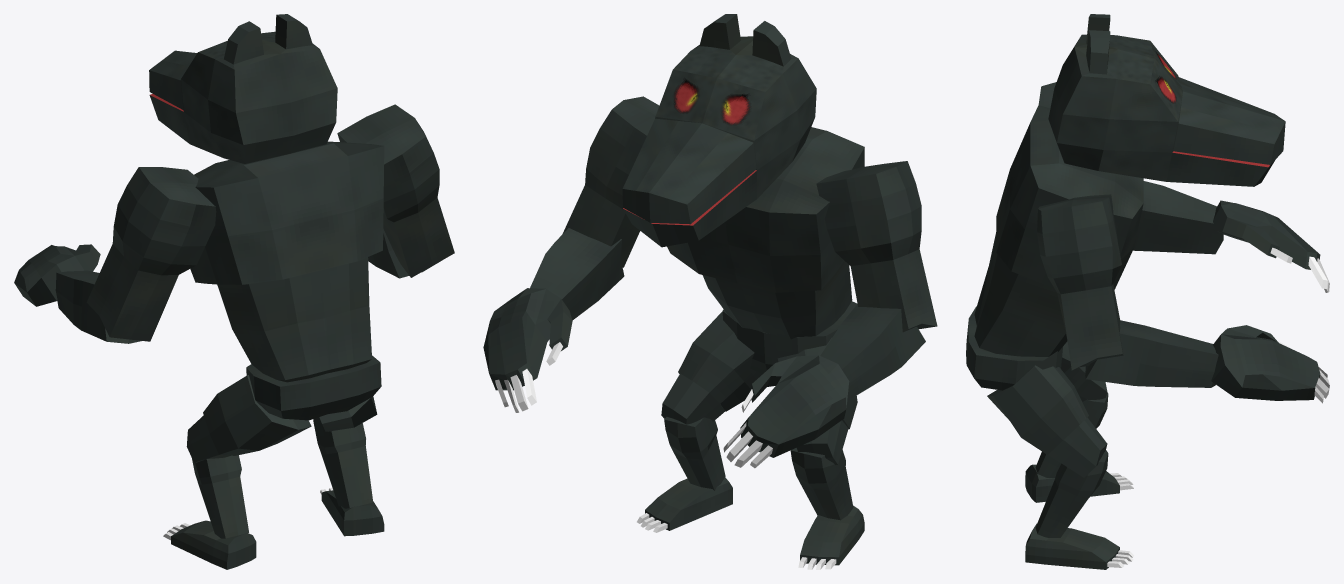
The model's file is lobisomem.gltf.
3 renders of one model, left to right at view 1: azimuth 30°, elevation 25°; view 2: azimuth 150°, elevation 25°; view 3: azimuth 270°, elevation 25°, orthographic. The views are drawn at different scales.
Parts seen in each view (by area): view 1: peito, cabeca, bracoe, torso, bracod, pernae, cintura, canelad, canelae, maoe, pee, abracoe (+3 smaller); view 2: cabeca, peito, bracoe, maoe, bracod, maod, pernad, torso, abracoe, abracod, canelad, ped (+4 smaller); view 3: cabeca, bracod, peito, pernad, torso, maod, abracod, abracoe, maoe, ped, canelad, cintura (+3 smaller).
Part boxes in pixels (x1,y1,x2,y2): peito: (190,141,384,284); cabeca: (149,14,337,163); bracoe: (86,167,216,341); torso: (217,257,371,382); bracod: (337,104,454,277); pernae: (186,375,311,462); cintura: (246,355,381,420); canelad: (313,417,373,508); canelae: (192,455,248,538); maoe: (14,244,100,306); pee: (163,520,256,569); abracoe: (55,270,141,343); cabeca: (622,14,816,247); peito: (667,127,864,292); bracoe: (816,161,937,332); maoe: (723,355,849,468); bracod: (562,96,659,267); maod: (483,288,572,412); pernad: (661,311,762,424); torso: (702,261,852,339); abracoe: (820,304,925,400); abracod: (530,228,624,320); canelad: (664,417,725,490); ped: (637,477,732,532); cabeca: (1048,14,1285,186); bracod: (1037,194,1123,370); peito: (996,105,1143,289); pernad: (987,365,1107,477); torso: (974,232,1067,356); maod: (1211,325,1329,403); abracod: (1085,320,1218,387); abracoe: (1133,181,1223,254); maoe: (1209,200,1329,292); ped: (1025,523,1133,569); canelad: (1035,450,1108,537); cintura: (966,306,1062,390).
Size of the model in its own units: 1.44 by 2.01 by 1.32.
1 material, 1 textured.
